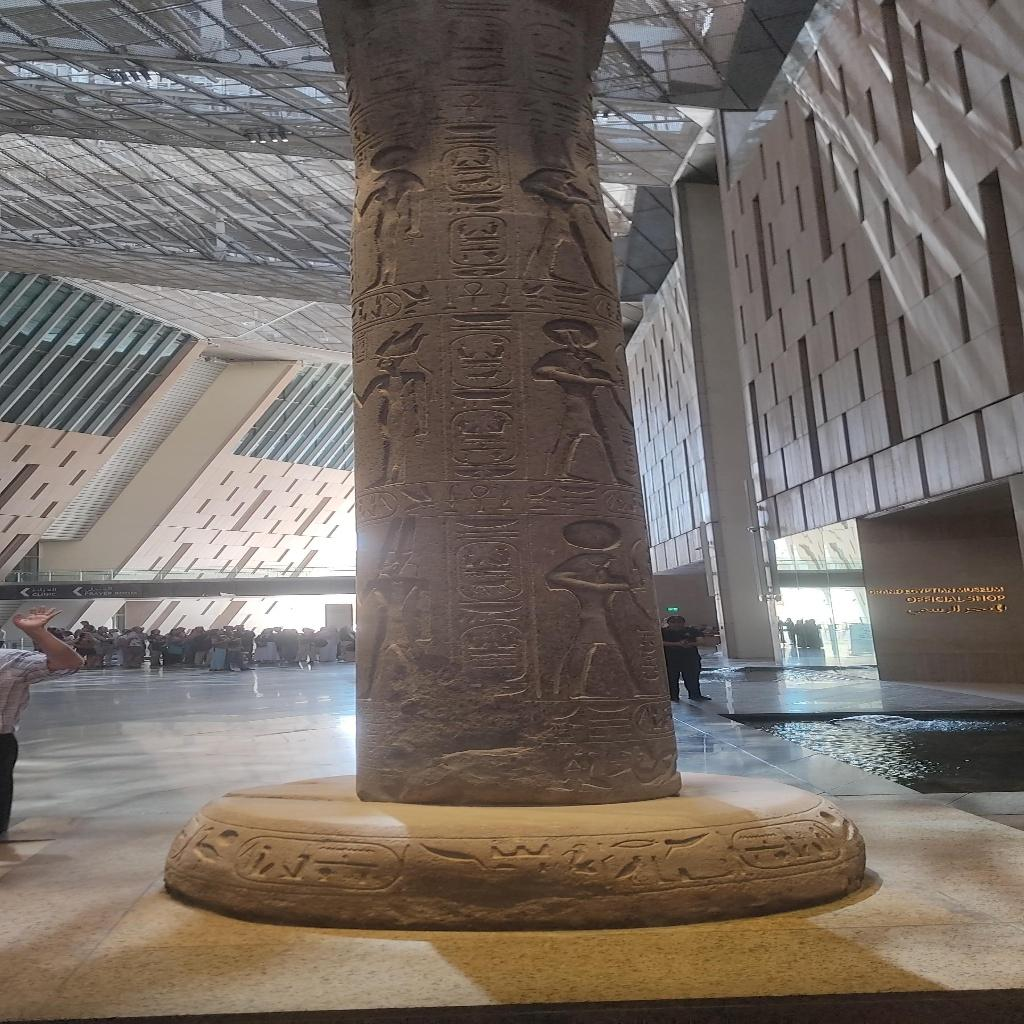Column of Merenptah: (318, 2, 686, 806)
